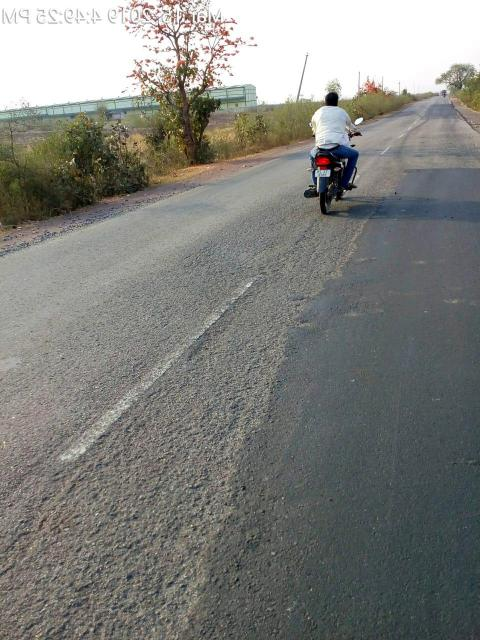motor: (305, 152, 346, 216)
non-helm: (327, 94, 339, 107)
